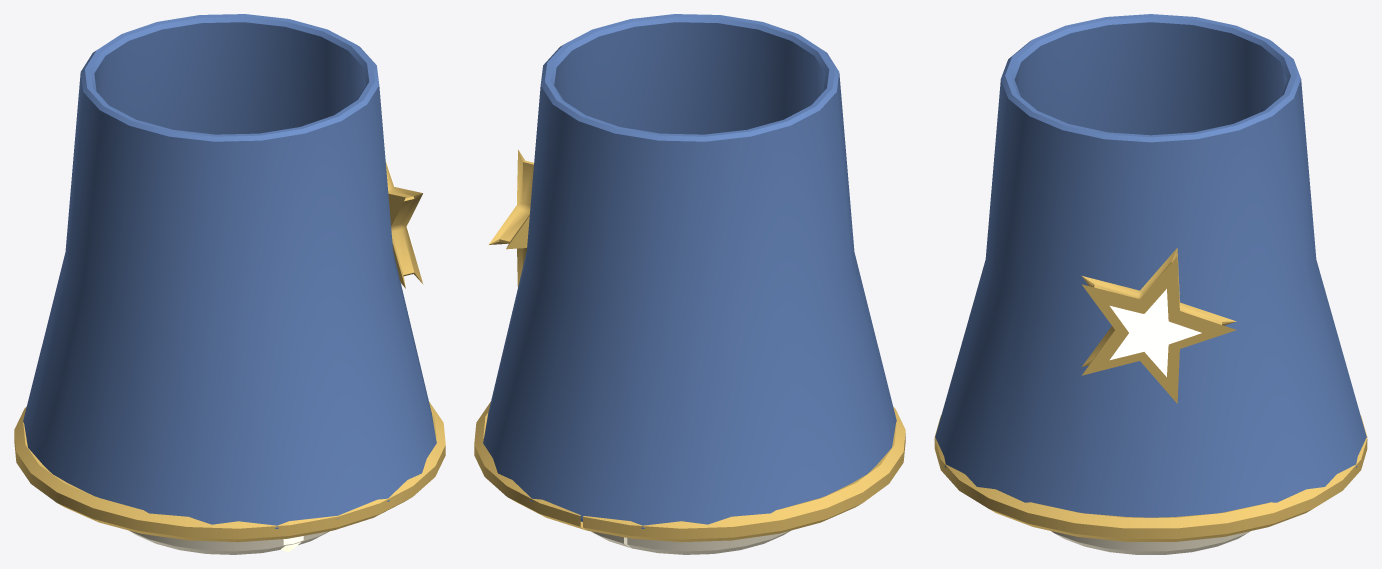
Rendered from asc_lightbinder_gloves.glb.
The picture shows the model from 3 angles, left to right: view 1: azimuth 30°, elevation 25°; view 2: azimuth 150°, elevation 25°; view 3: azimuth 270°, elevation 25°; orthographic projection.
Visible parts, largest first — view 1: asc_lightbinder_gloves; view 2: asc_lightbinder_gloves; view 3: asc_lightbinder_gloves.
Boxes of the visible parts, box(x1,y1,x2,y2) form: asc_lightbinder_gloves: box(14, 14, 445, 554); asc_lightbinder_gloves: box(474, 14, 905, 554); asc_lightbinder_gloves: box(934, 14, 1367, 554).
Bounding box in the file's own units: 0.221 × 0.2464 × 0.2227.
